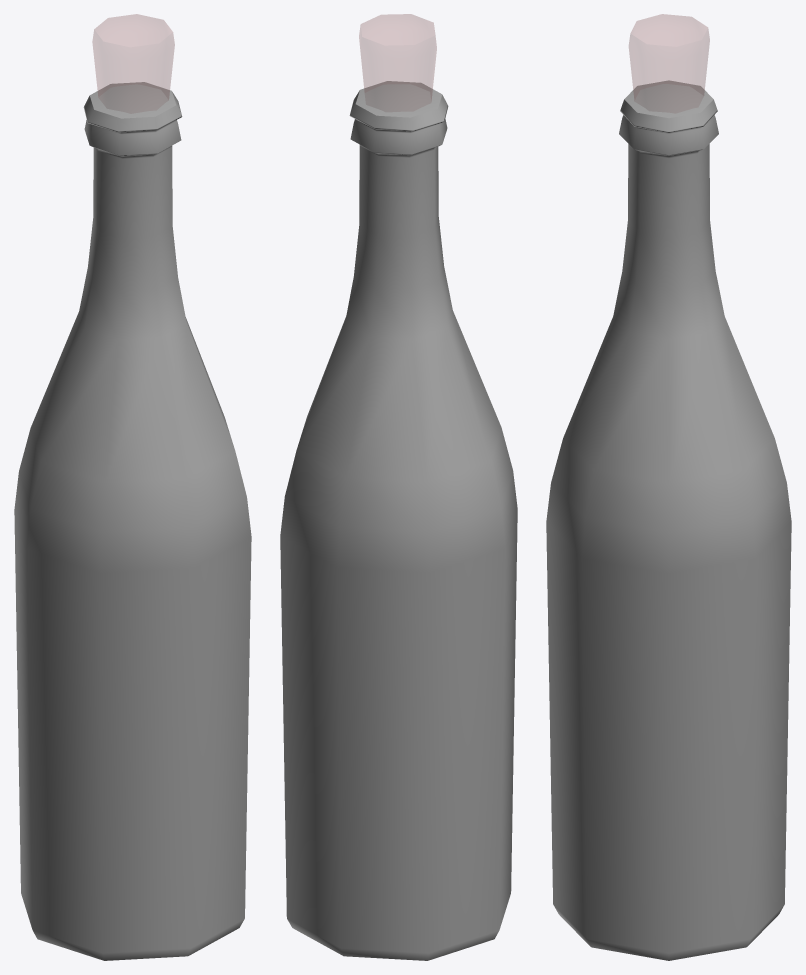
The model's file is bottle low.fbx.
The picture shows the model from 3 angles, left to right: view 1: azimuth 30°, elevation 25°; view 2: azimuth 150°, elevation 25°; view 3: azimuth 270°, elevation 25°; orthographic projection.
Visible parts, largest first — view 1: polySurface1, polySurface2; view 2: polySurface1, polySurface2; view 3: polySurface1, polySurface2.
Part boxes in pixels (<box>): polySurface1: <box>14,82,251,960</box>; polySurface2: <box>92,14,174,113</box>; polySurface1: <box>280,81,517,960</box>; polySurface2: <box>359,14,436,111</box>; polySurface1: <box>546,80,791,960</box>; polySurface2: <box>629,14,709,112</box>.
Bounding box in the file's own units: 2.12 × 8.51 × 2.12.
